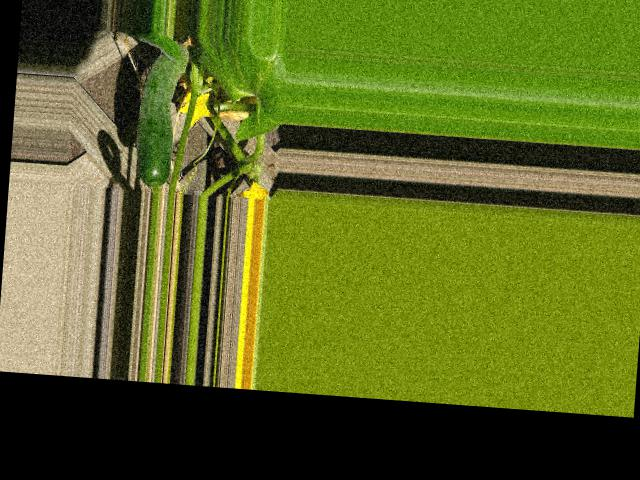cucumber: (132, 33, 190, 186)
